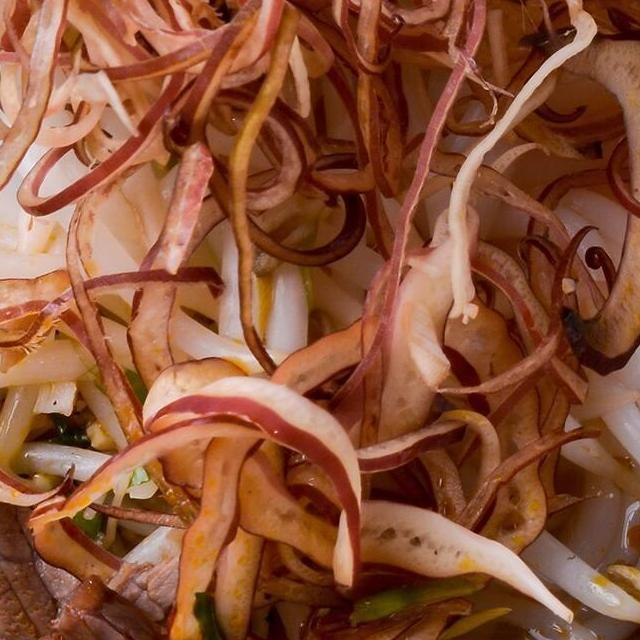bun: (278, 19, 640, 640)
bun bo: (0, 0, 640, 640)
